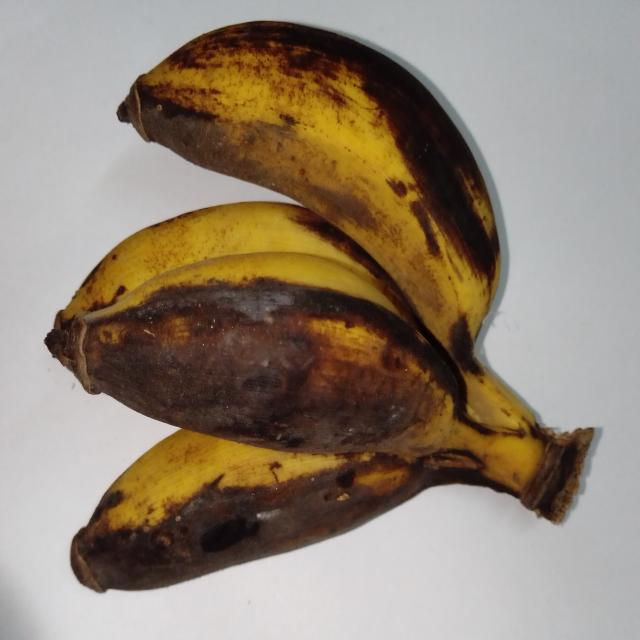banana: (119, 22, 535, 436), (47, 253, 592, 520), (72, 430, 522, 592), (56, 202, 415, 328)
